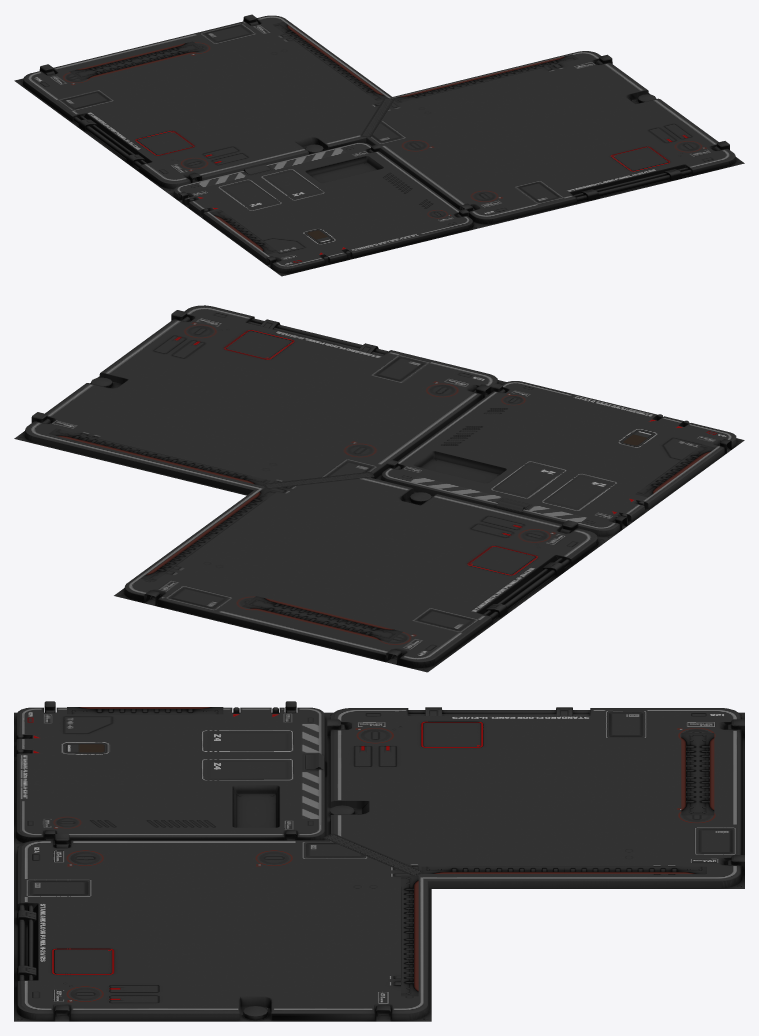
File: Panel_A_3,5x3,5_Floor_Corner.FBX
3 renders of one model, top to bottom at view 1: azimuth 30°, elevation 25°; view 2: azimuth 150°, elevation 25°; view 3: azimuth 270°, elevation 25°, orthographic. The views are drawn at different scales.
Parts seen in each view (by area): view 1: Panel_A_3,5x3,5_Floor_Corner; view 2: Panel_A_3,5x3,5_Floor_Corner; view 3: Panel_A_3,5x3,5_Floor_Corner.
Part boxes in pixels (left/top/right/bottom): Panel_A_3,5x3,5_Floor_Corner: left=14, top=14, right=744, bottom=276; Panel_A_3,5x3,5_Floor_Corner: left=14, top=305, right=744, bottom=672; Panel_A_3,5x3,5_Floor_Corner: left=14, top=701, right=744, bottom=1021.
Bounding box in the file's own units: 350 × 5.9 × 350.
